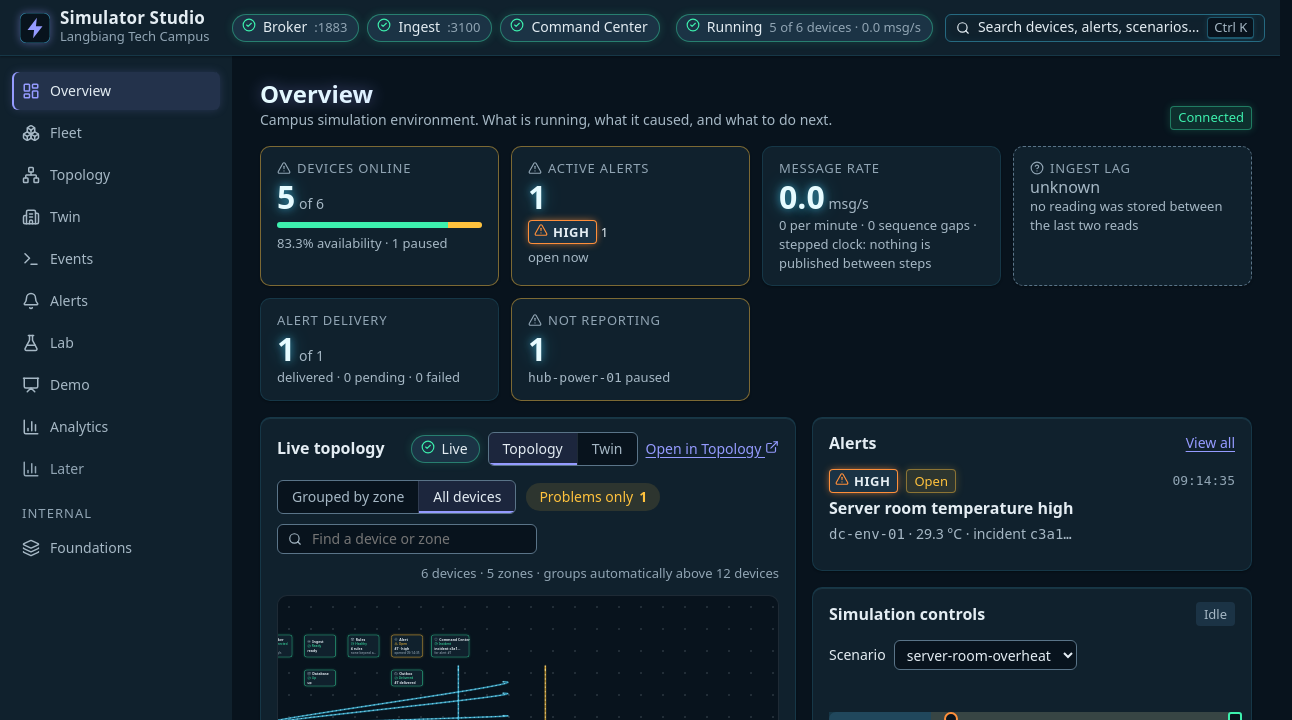
Scenario: navigation › opens a page that is not built yet on the placeholder that names its ticket
Click the link "Later". click: (65, 473)
box: 21,459 -> 108,488
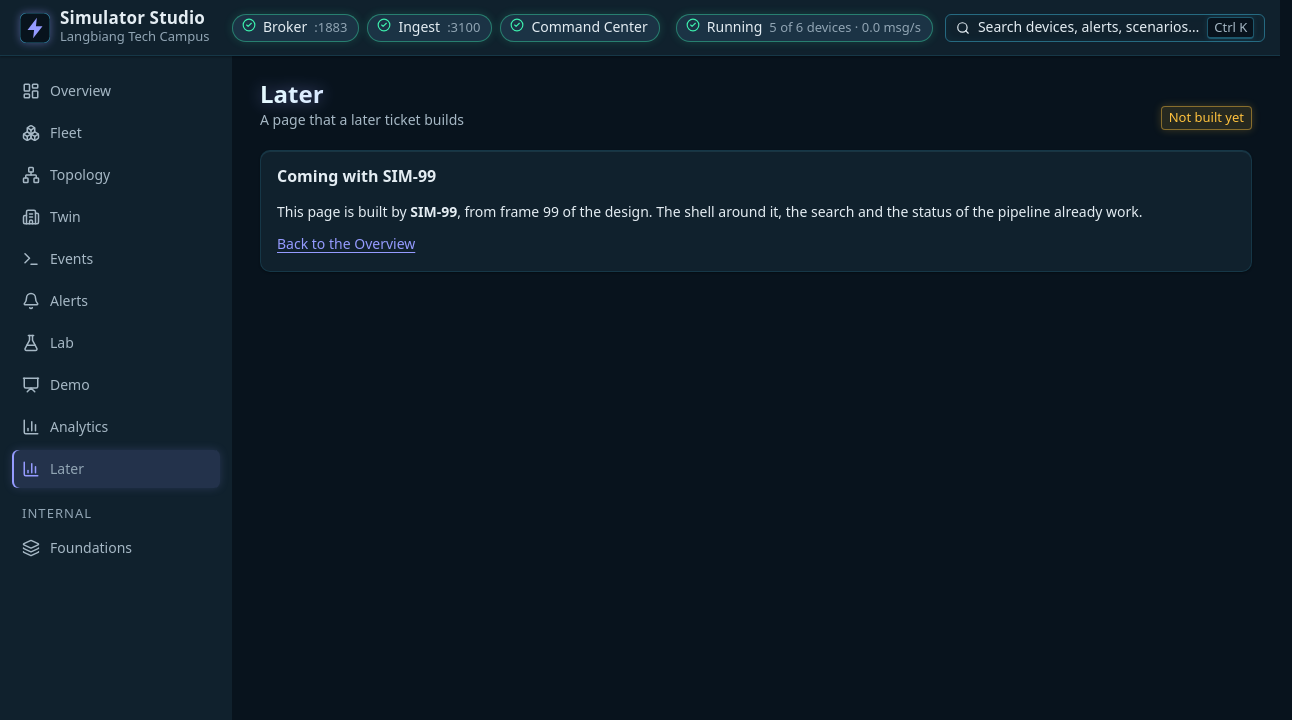
Now the heading "Later" is shown, box 260,80 -> 464,108
Now the heading "Coming with SIM-99" is shown, box 277,165 -> 436,188
